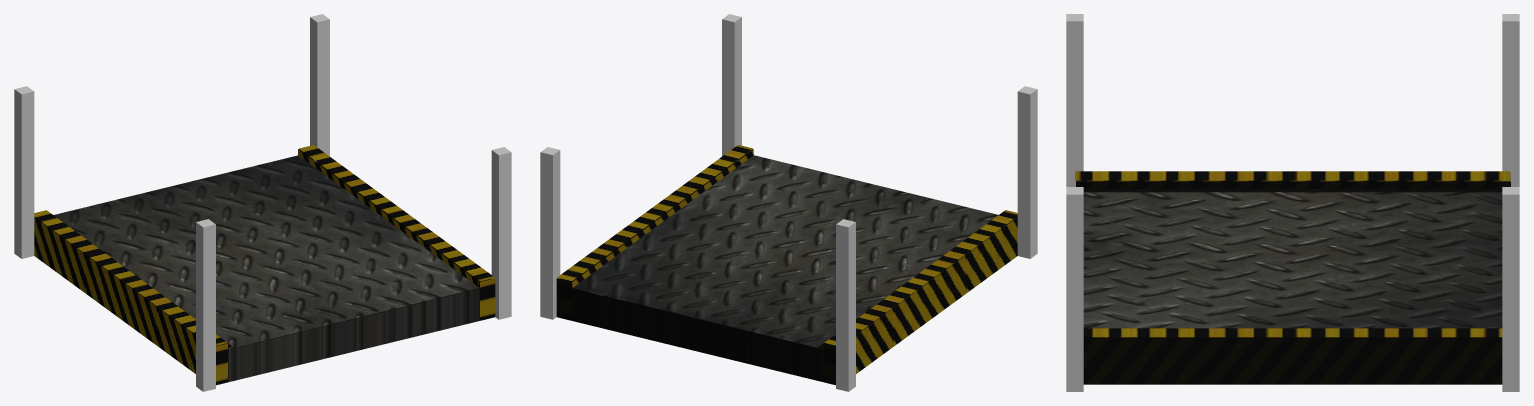
File: lift_fbx.fbx
3 renders of one model, left to right at view 1: azimuth 30°, elevation 25°; view 2: azimuth 150°, elevation 25°; view 3: azimuth 270°, elevation 25°, orthographic. The views are drawn at different scales.
Visible parts, largest first — view 1: lift:Layer1, lift:Layer2, lift:Layer3; view 2: lift:Layer1, lift:Layer2, lift:Layer3; view 3: lift:Layer1, lift:Layer2, lift:Layer3.
Part boxes in pixels (x1,y1,x2,y2): lift:Layer1: [46, 155, 479, 382]; lift:Layer2: [34, 145, 495, 385]; lift:Layer3: [14, 14, 511, 391]; lift:Layer1: [572, 155, 1004, 382]; lift:Layer2: [556, 145, 1017, 385]; lift:Layer3: [540, 14, 1037, 391]; lift:Layer1: [1083, 189, 1502, 337]; lift:Layer2: [1075, 171, 1510, 384]; lift:Layer3: [1066, 14, 1519, 391].
Bounding box in the file's own units: 4.9 × 2.5 × 5.2.
